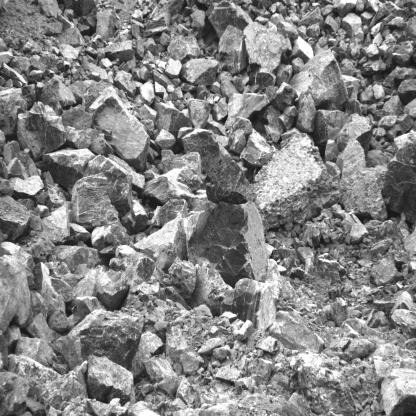stone: (251, 129, 341, 233), (183, 196, 266, 286), (88, 85, 150, 169), (54, 310, 142, 368), (335, 140, 388, 219), (289, 49, 348, 111), (80, 156, 133, 221), (382, 132, 416, 224), (17, 101, 66, 163), (134, 217, 186, 269), (179, 128, 231, 179), (0, 255, 33, 335), (71, 172, 119, 227), (35, 147, 95, 190), (188, 261, 232, 318), (33, 261, 76, 317), (87, 355, 134, 405), (231, 278, 276, 330), (243, 23, 287, 72), (207, 161, 252, 205), (0, 84, 37, 137), (35, 194, 71, 245), (379, 367, 416, 416), (224, 93, 271, 131), (141, 356, 183, 396), (208, 0, 251, 39), (218, 23, 248, 75), (311, 109, 353, 146), (336, 114, 373, 155), (144, 174, 193, 204), (239, 128, 276, 167), (0, 195, 32, 239), (94, 266, 126, 309), (167, 257, 196, 303), (14, 337, 57, 368), (40, 78, 76, 115), (389, 291, 416, 340), (91, 223, 131, 256), (180, 58, 220, 87), (156, 102, 192, 132), (295, 86, 316, 134), (370, 258, 404, 287), (316, 253, 347, 284), (167, 33, 201, 61), (289, 36, 314, 73), (26, 313, 55, 344), (228, 117, 253, 151), (158, 199, 187, 228), (103, 40, 135, 61), (113, 69, 136, 98), (342, 14, 364, 44), (188, 98, 212, 125), (276, 83, 298, 111), (48, 307, 71, 333), (143, 16, 169, 37), (398, 78, 416, 105), (255, 72, 276, 91), (155, 130, 177, 148), (139, 82, 155, 106)
